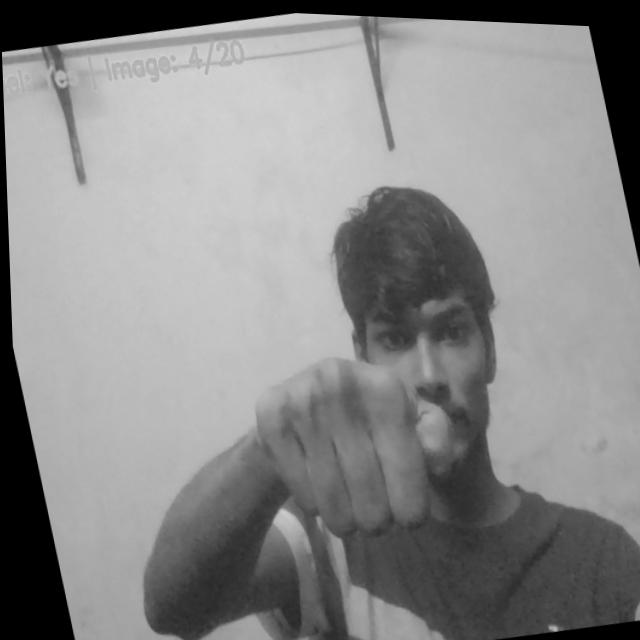Yes: (234, 328, 478, 560)
